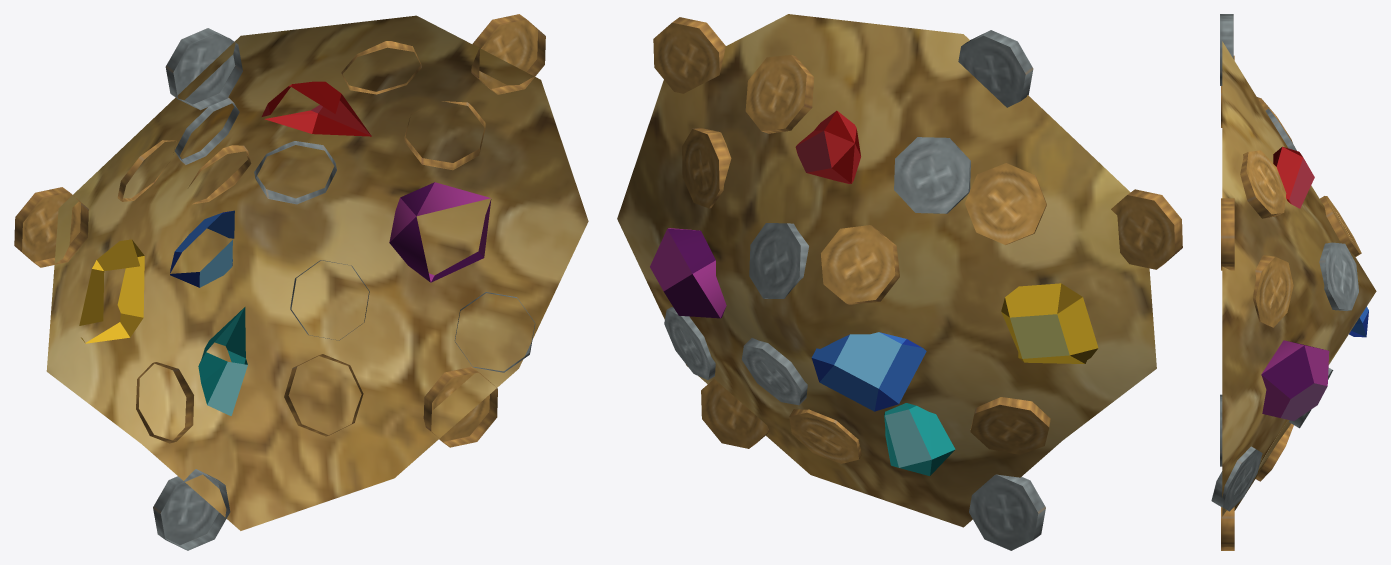
Rendered from Gold_Stack_D.fbx.
3 renders of one model, left to right at view 1: azimuth 30°, elevation 25°; view 2: azimuth 150°, elevation 25°; view 3: azimuth 270°, elevation 25°, orthographic. The views are drawn at different scales.
Visible parts, largest first — view 1: Gold_Stack_D; view 2: Gold_Stack_D; view 3: Gold_Stack_D.
Part boxes in pixels (bbox=[...]): Gold_Stack_D: bbox=[14, 14, 588, 550]; Gold_Stack_D: bbox=[617, 14, 1182, 550]; Gold_Stack_D: bbox=[1211, 14, 1376, 550].
Size of the model in its own units: 1.36 by 1.17 by 0.3878.
